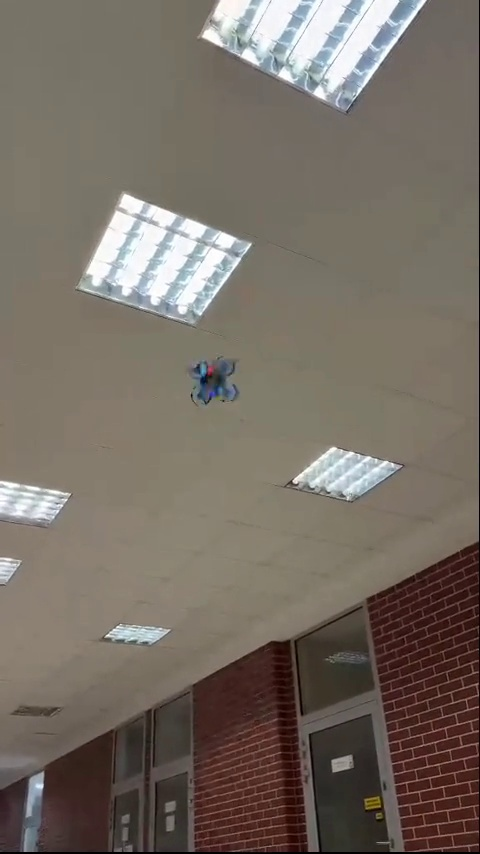drone: (185, 355, 245, 408)
